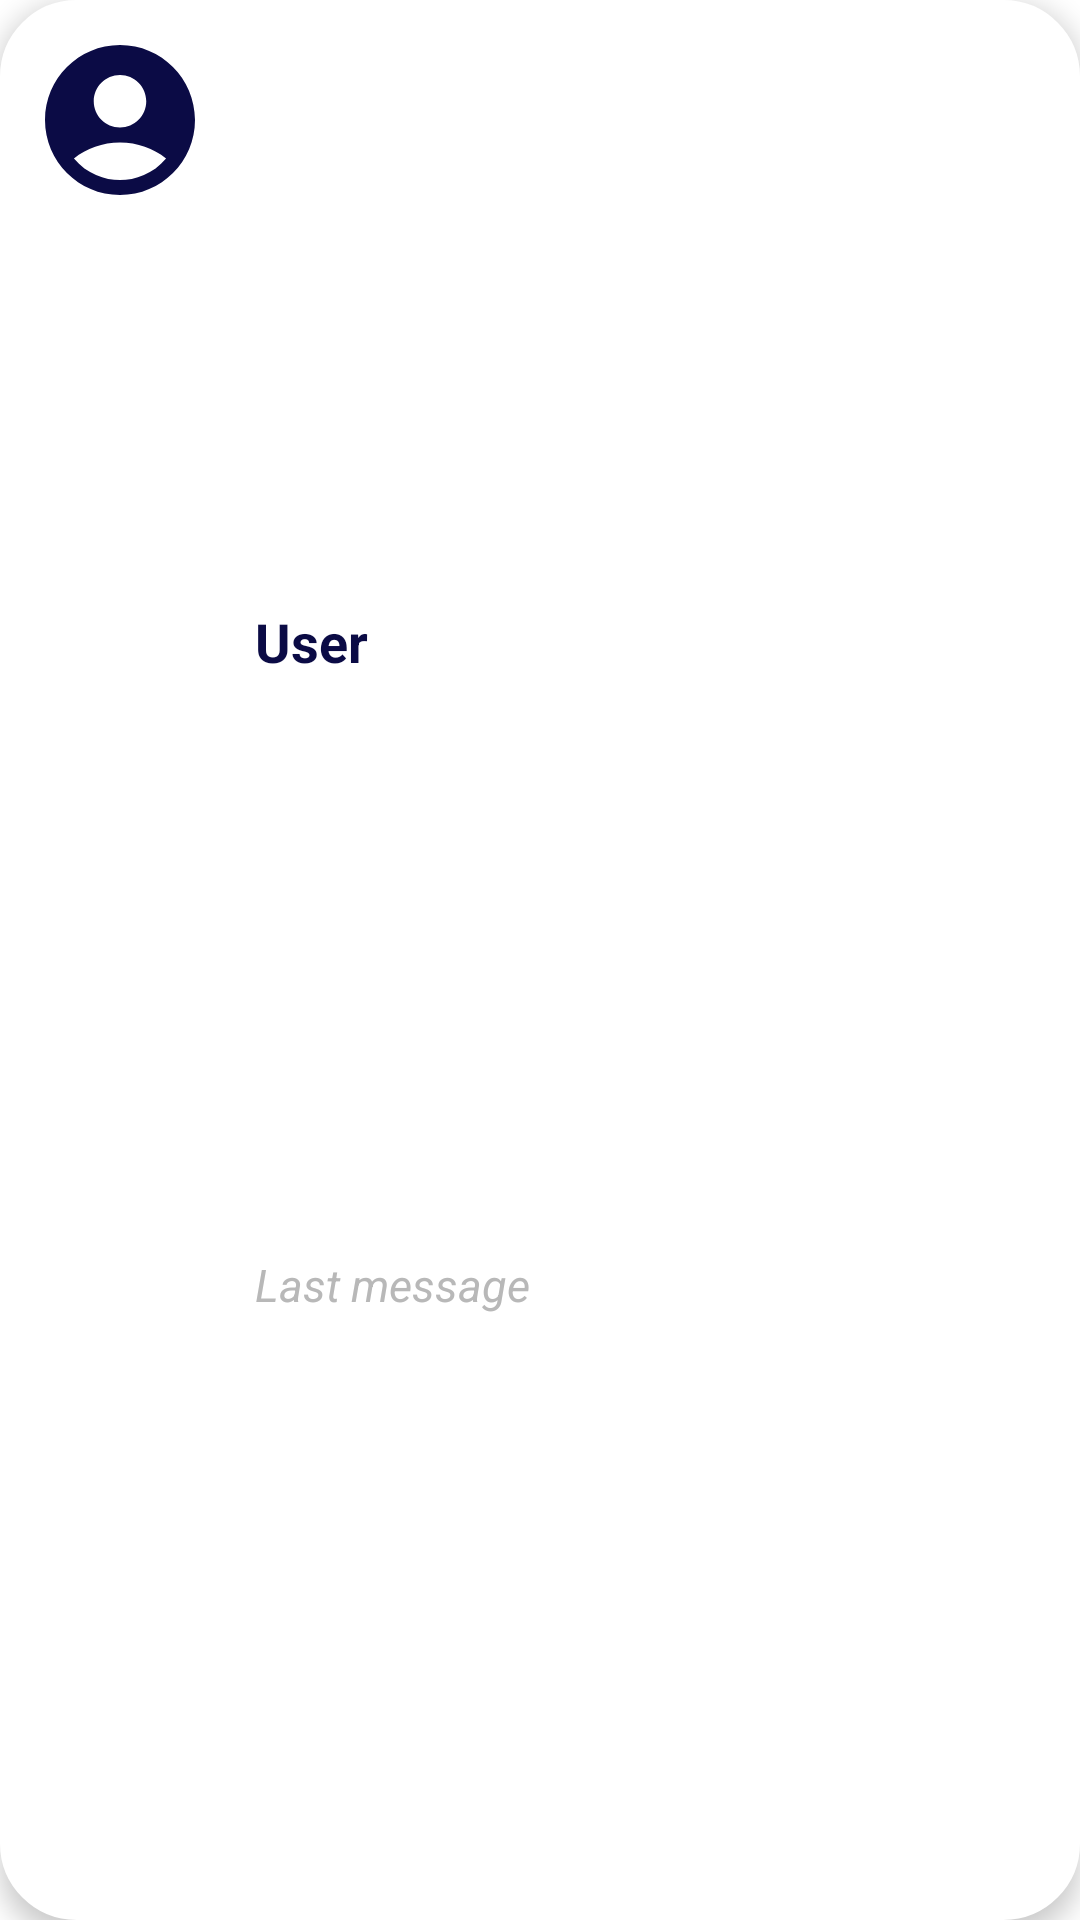

Screen size 1080px x 1920px. Icon name, then its center in pixels as (x,y):
chat profile: (120,120)
